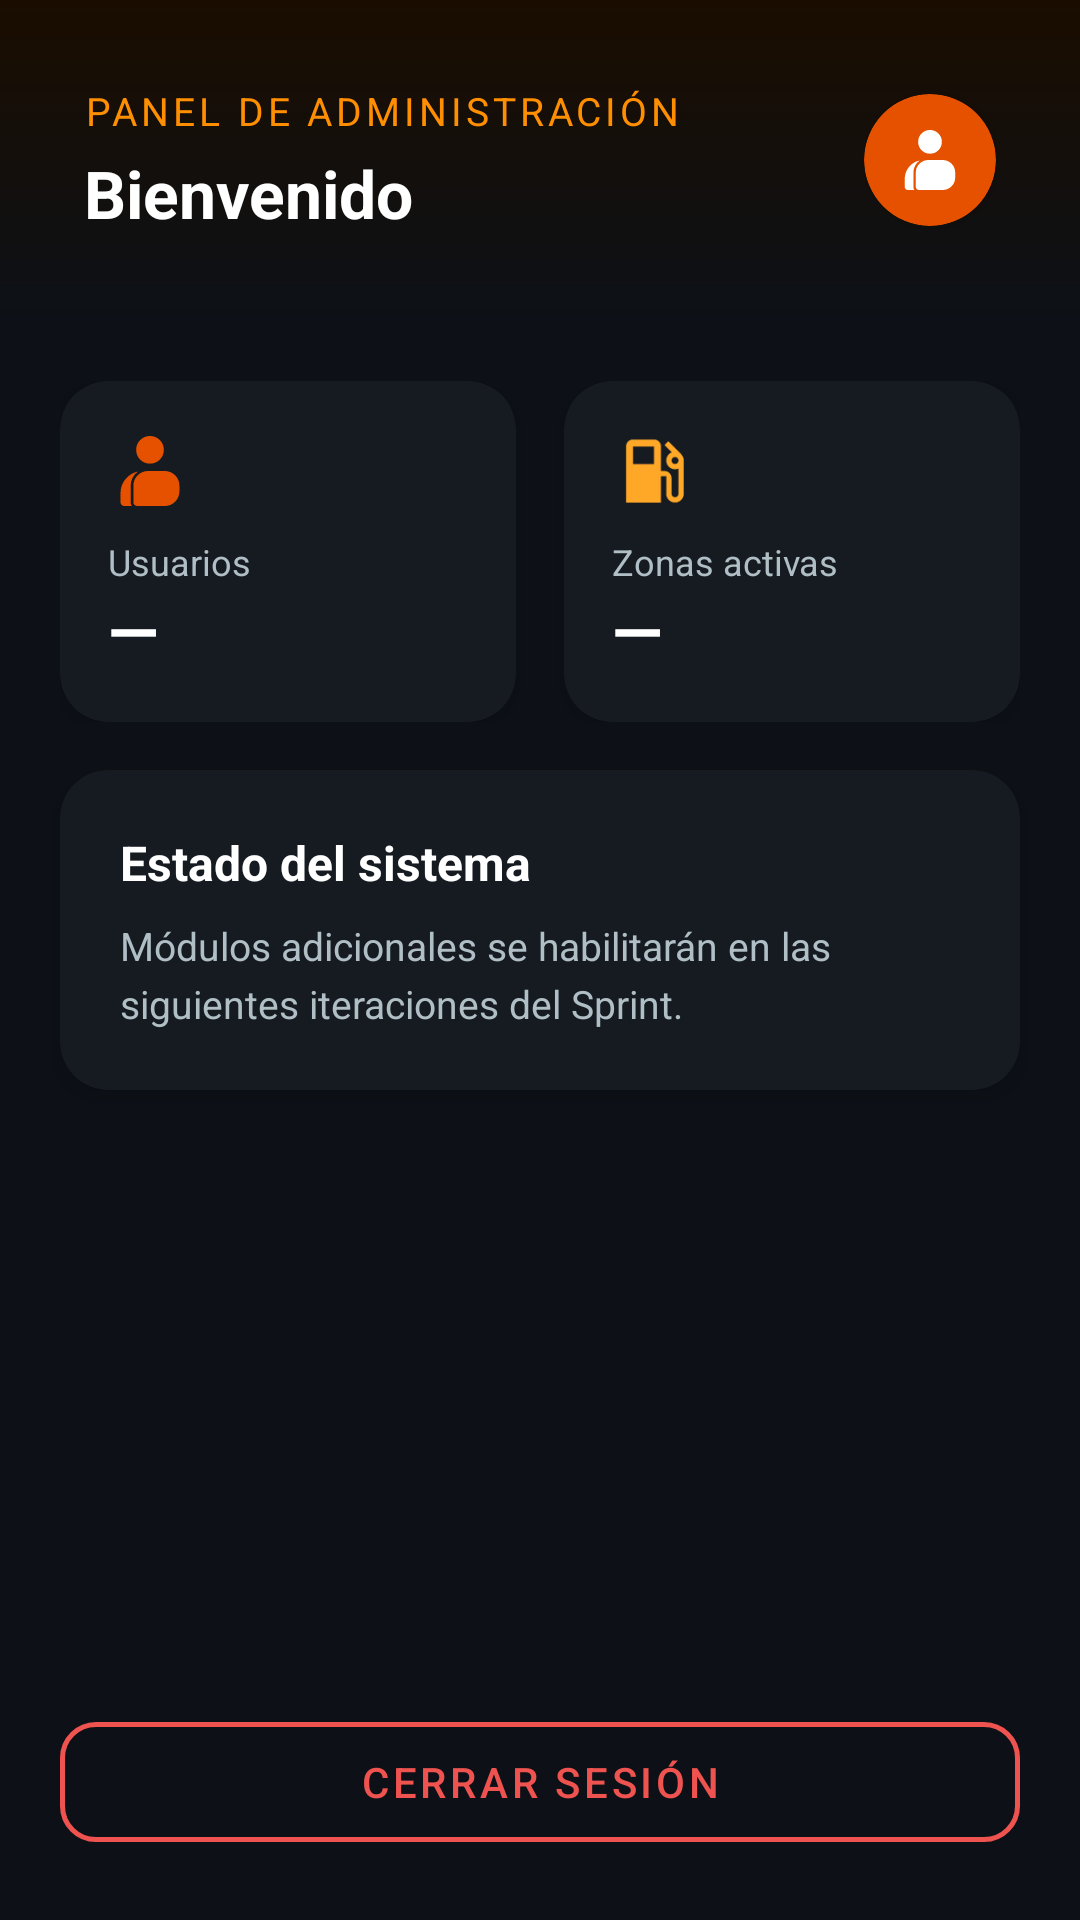

Where icons sit on this 1080 x 1920 app screen, as (x1, y1, x2, y2):
person: (904, 130, 956, 190), (120, 436, 180, 506)
